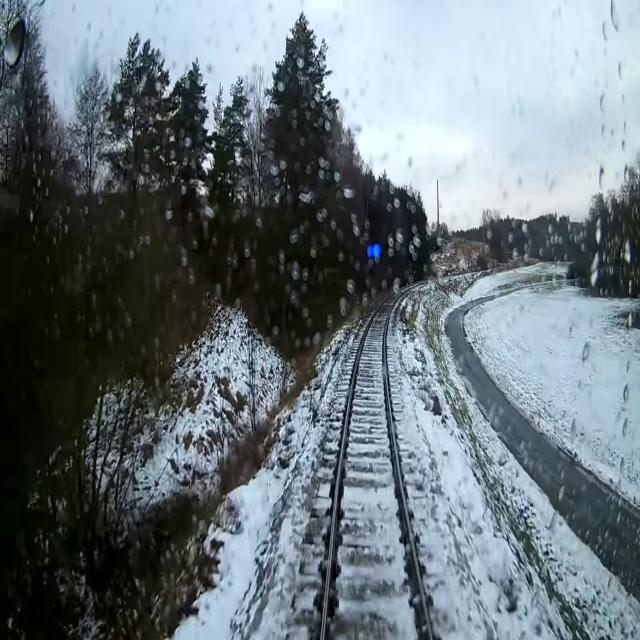rail-track: (325, 290, 429, 639)
